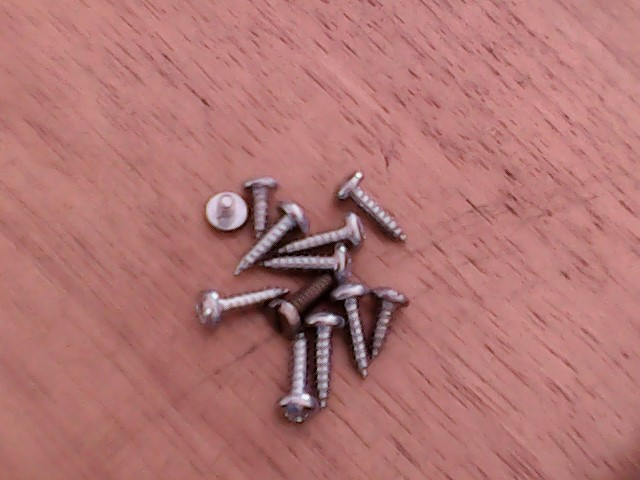Metal: (183, 154, 437, 480)
